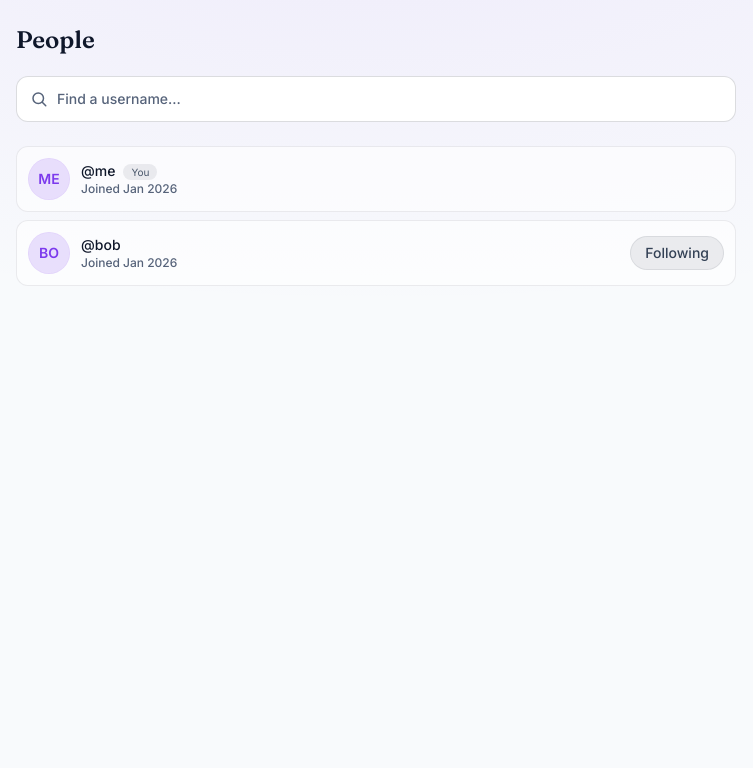
Members › unfollows a member and offers undo
Step 1. Click the button with aria-label "Unfollow" → x=677, y=253, box [631, 237, 723, 269]
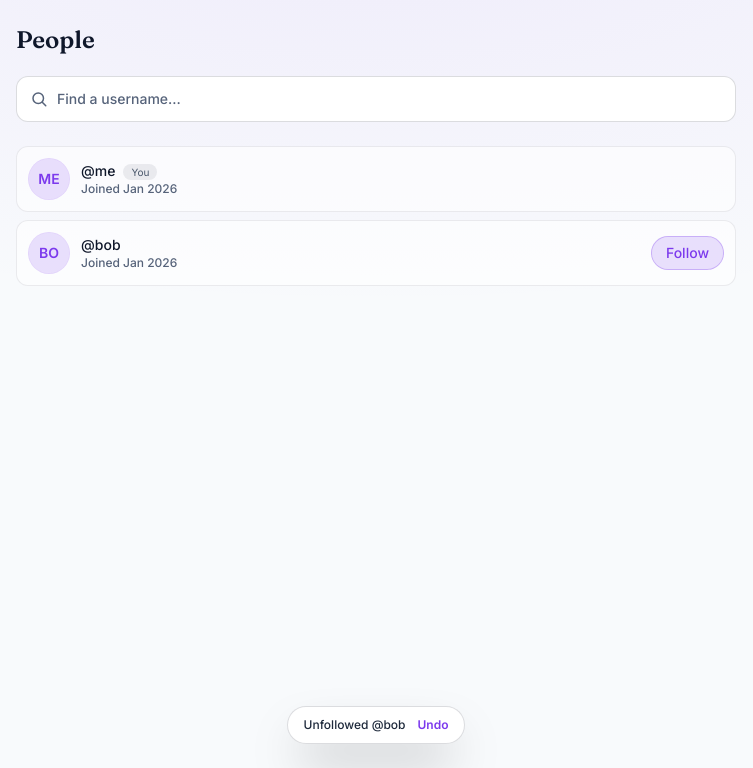
Expected: the text "Unfollowed @bob" is shown, [304, 717, 406, 733]
